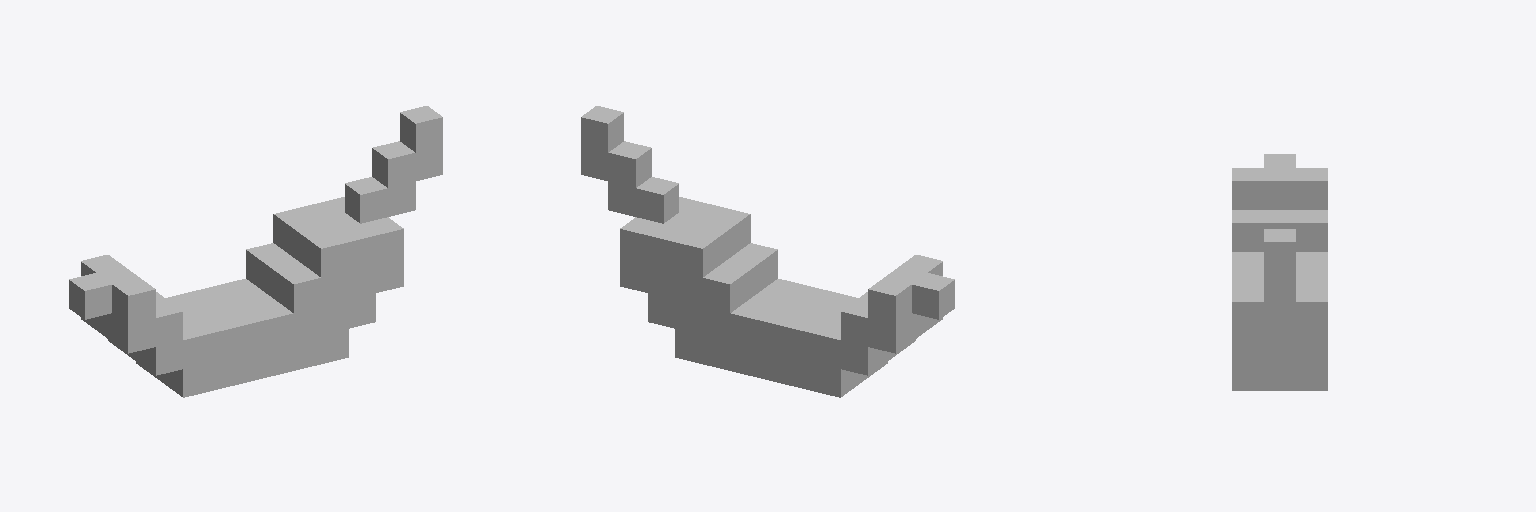
Rendered from banana.vox.obj.
3 views of the same model, side by side, from view 1: azimuth 30°, elevation 25°; view 2: azimuth 150°, elevation 25°; view 3: azimuth 270°, elevation 25° (orthographic).
Visible parts, largest first — view 1: object 1; view 2: object 1; view 3: object 1.
Part boxes in pixels (bbox=[...]): object 1: bbox=[69, 106, 442, 397]; object 1: bbox=[581, 106, 954, 397]; object 1: bbox=[1232, 154, 1327, 390].
Size of the model in its own units: 1.3 by 0.7 by 0.3.